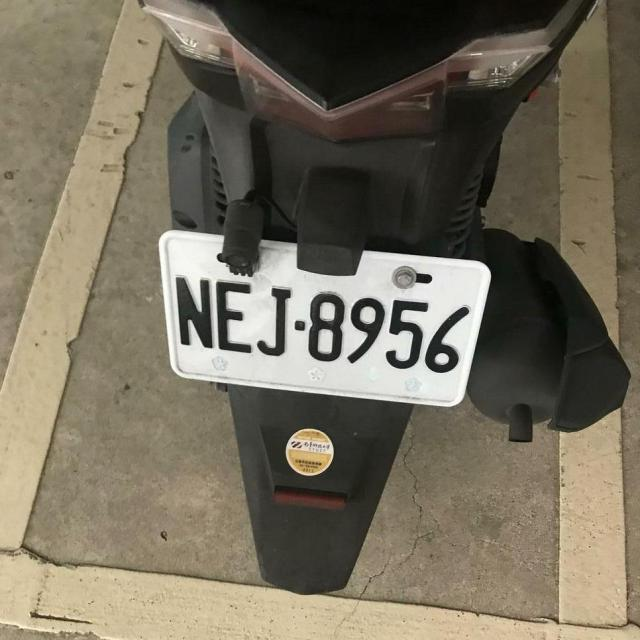W: (151, 228, 494, 410)
